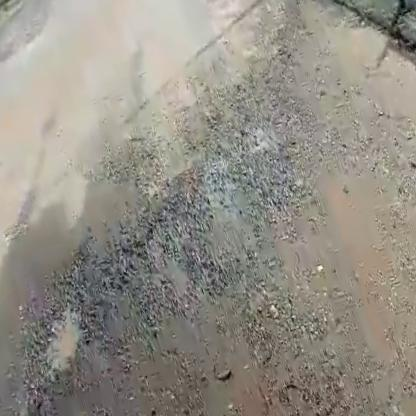pothole: (27, 292, 98, 376)
